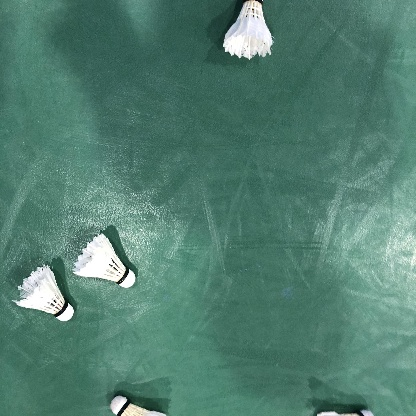ball_single: (12, 264, 74, 321), (72, 233, 136, 288), (223, 0, 273, 60), (110, 395, 167, 416)
